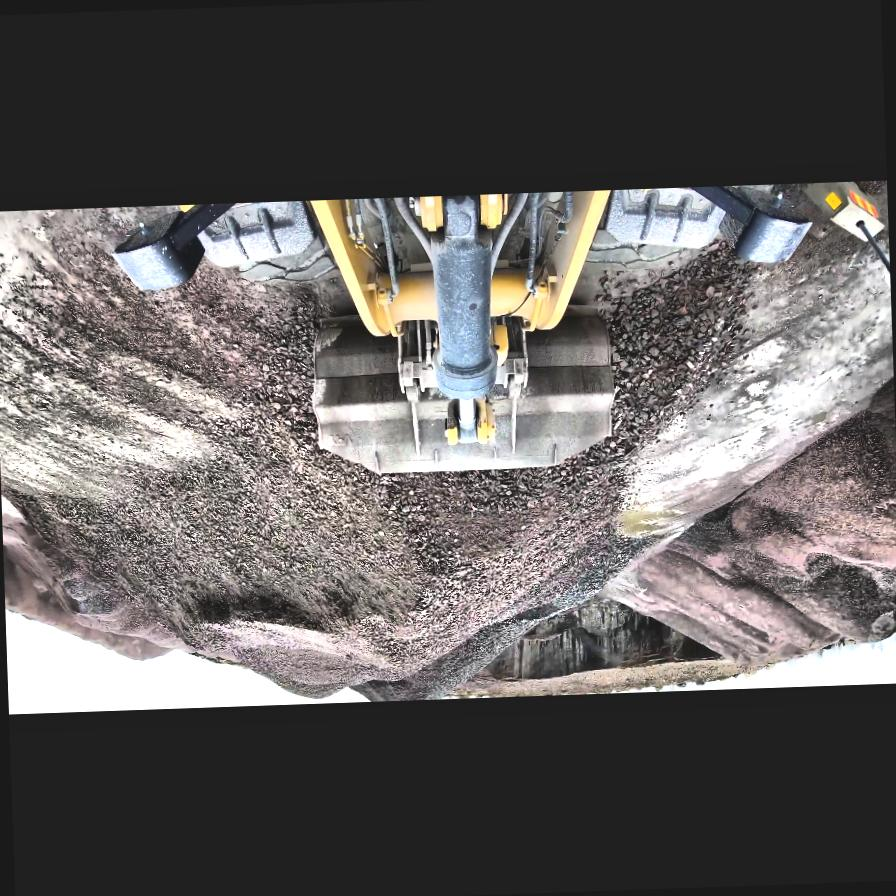anchor: (442, 396, 496, 448)
pile of gravel: (0, 264, 762, 711), (601, 349, 896, 682), (2, 495, 180, 666)
